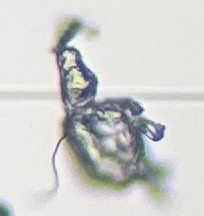microplastic: (50, 19, 166, 201), (1, 195, 20, 216)
